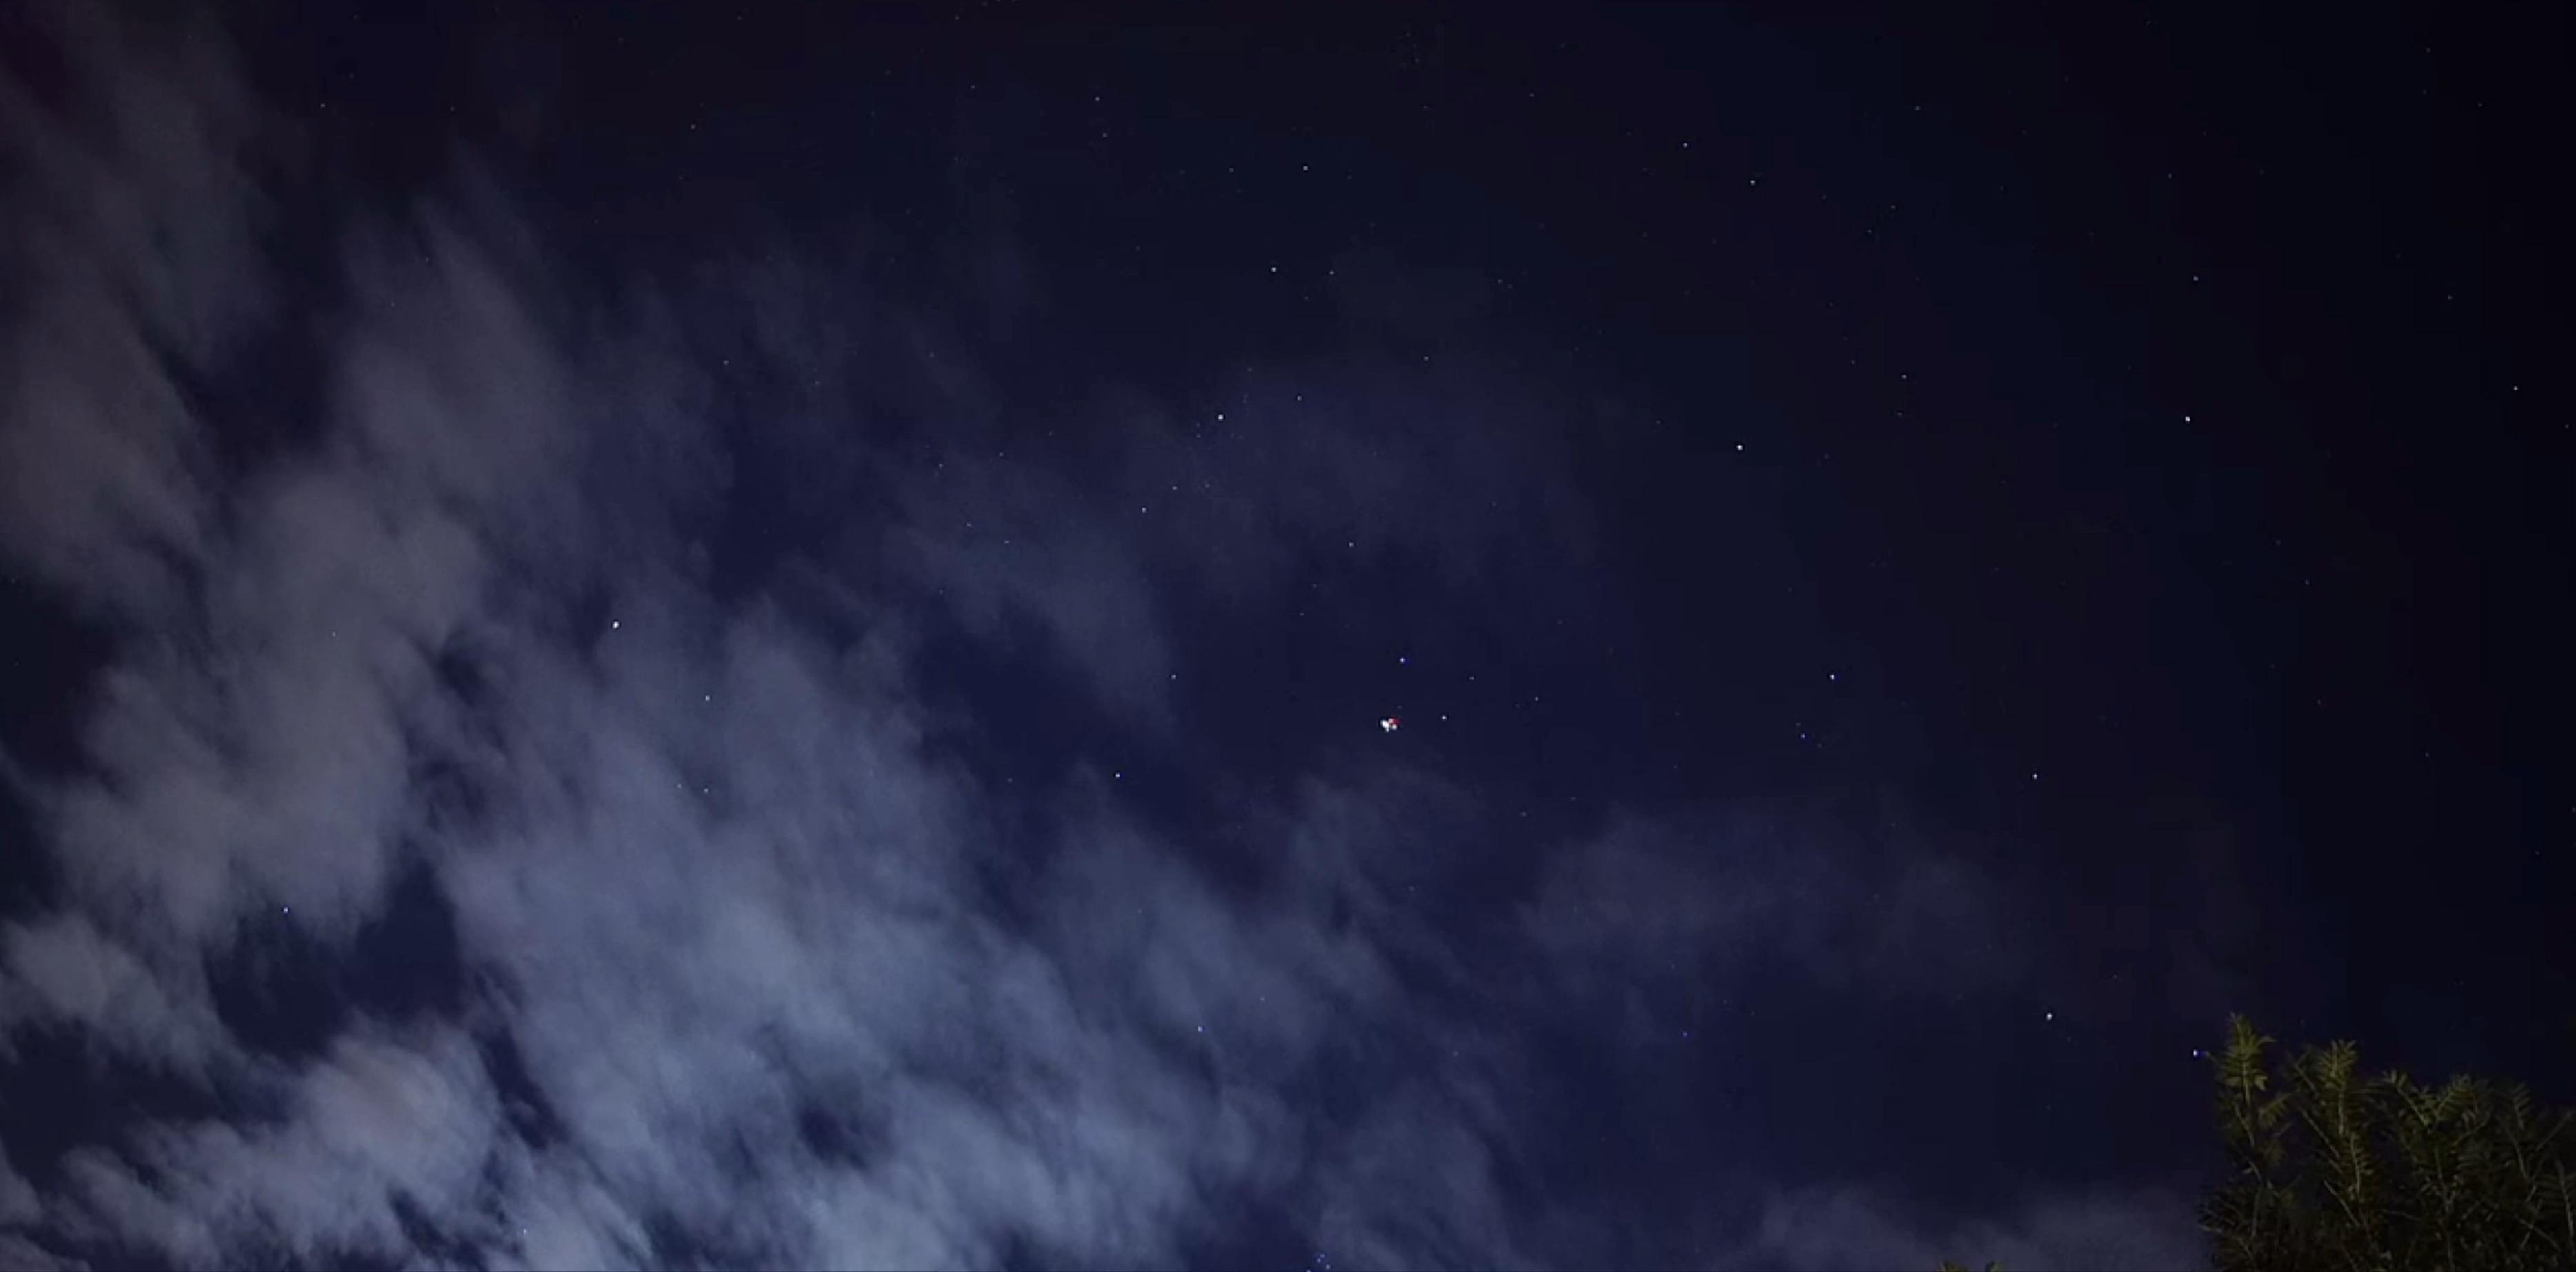Plane: (1354, 703, 1423, 741)
